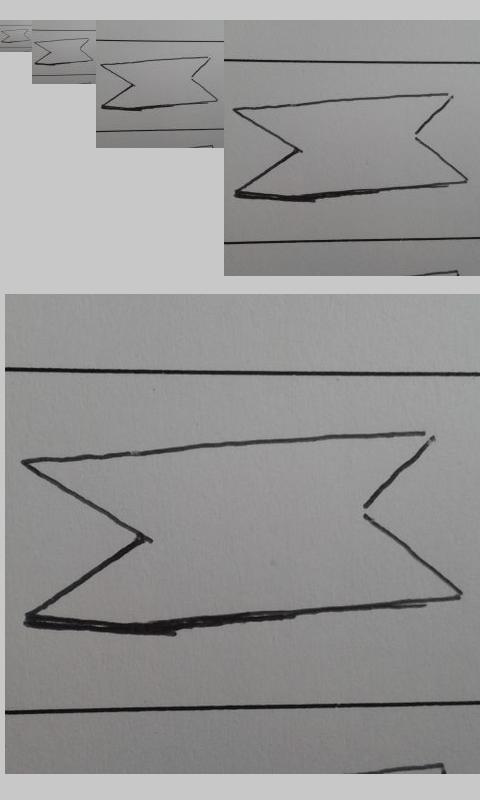edit_text: (20, 429, 463, 635), (231, 92, 469, 202), (100, 56, 219, 111), (33, 37, 93, 66), (1, 29, 30, 43)
